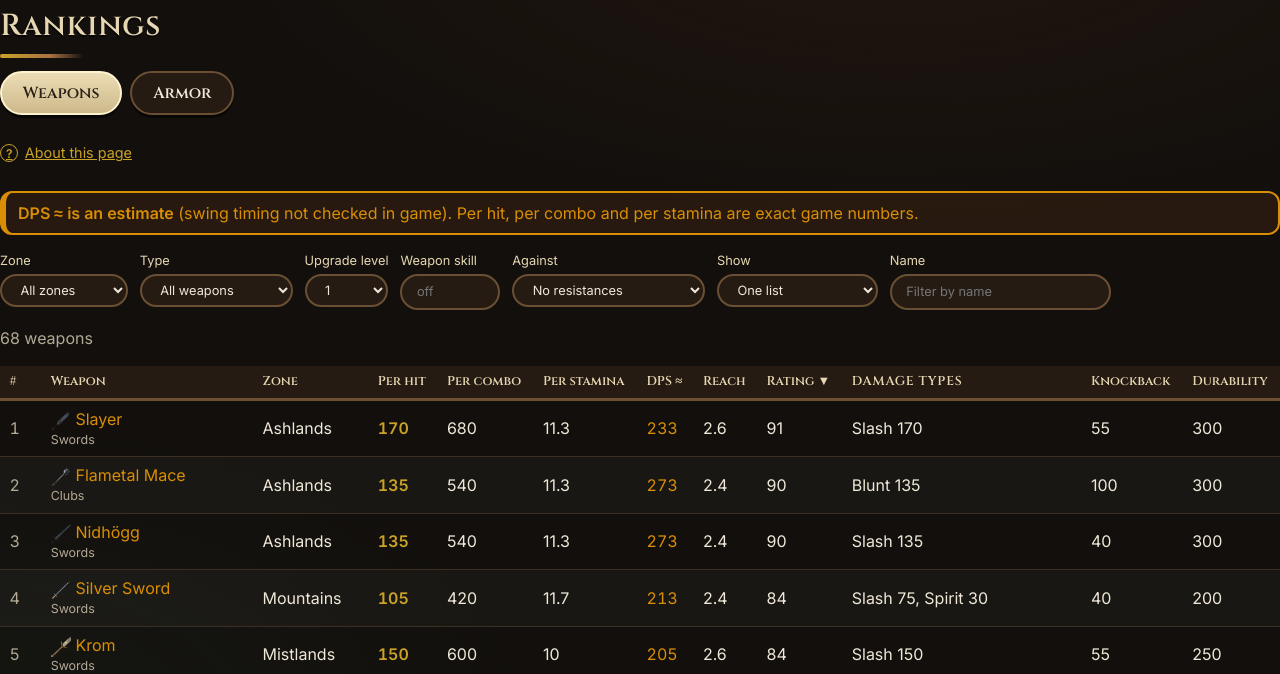
Test case: weapon rankings page › switches to the armor tab
Click the tab "Armor" at (182, 93), box [130, 71, 234, 115]
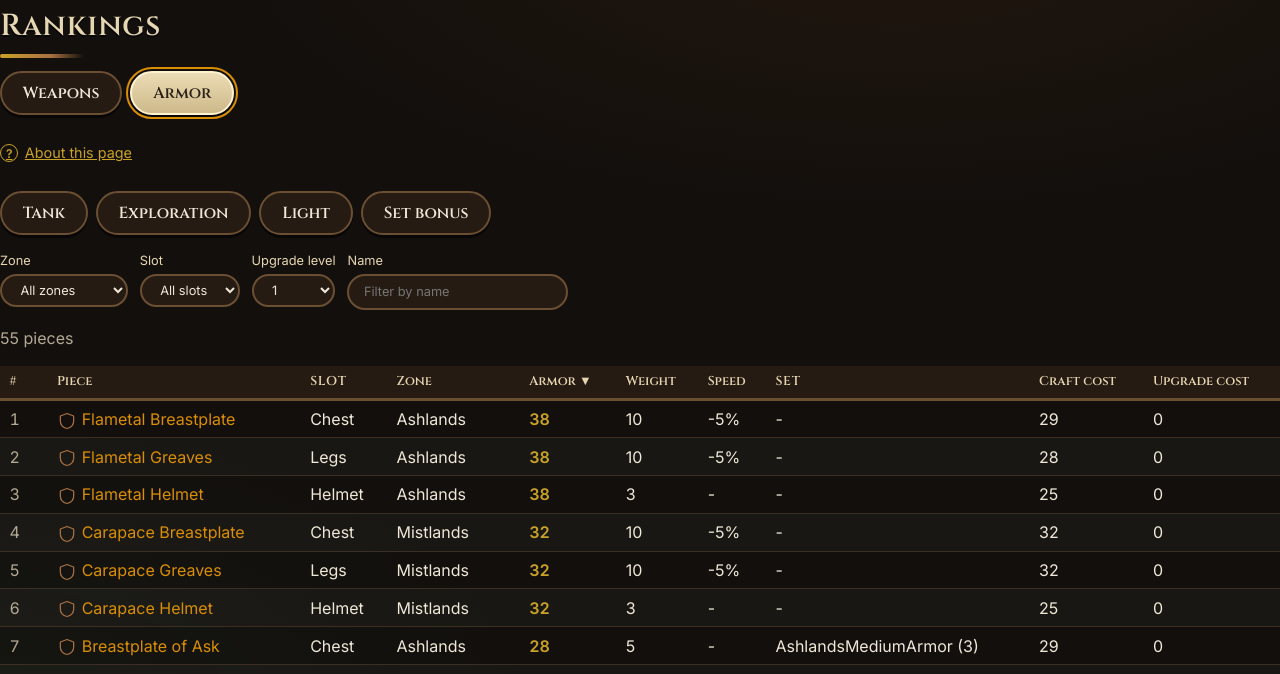
Expected: the button "Tank" is shown, [0, 191, 88, 235]
